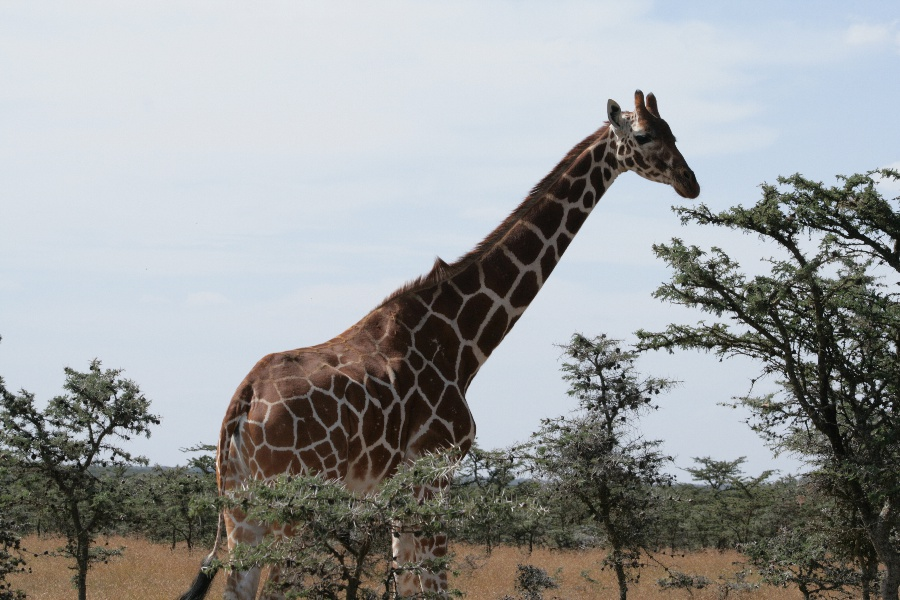giraffe: (179, 81, 710, 599)
